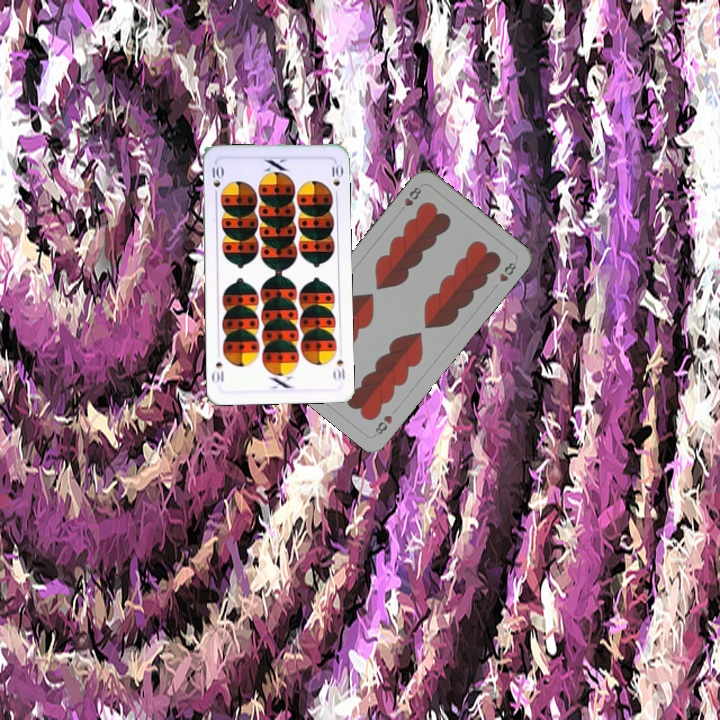H8: (400, 181, 424, 209), (371, 411, 395, 438)
S10: (208, 162, 224, 200), (333, 356, 348, 382)
